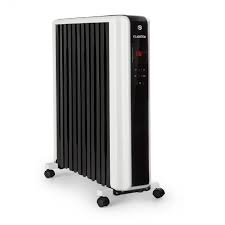Radiator: (42, 12, 166, 208)
